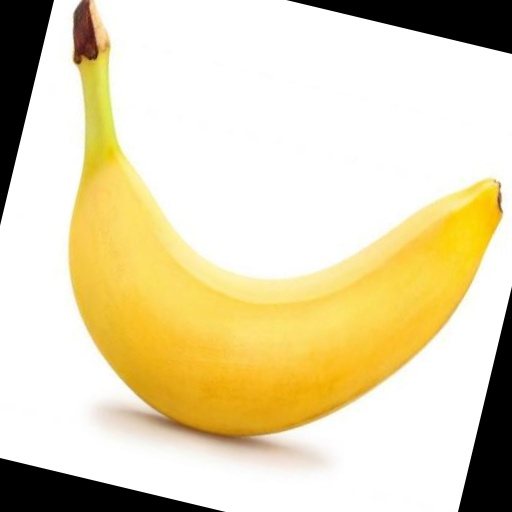fruit: (38, 0, 109, 119)
